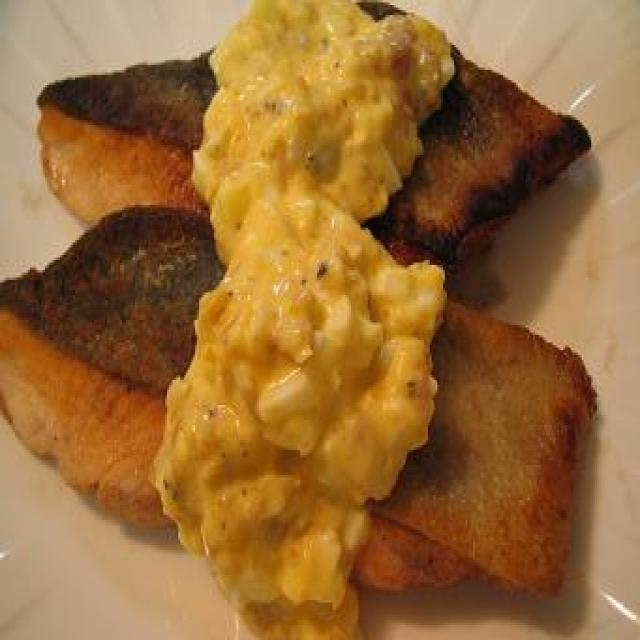熟制海鲜: (24, 22, 563, 580)
